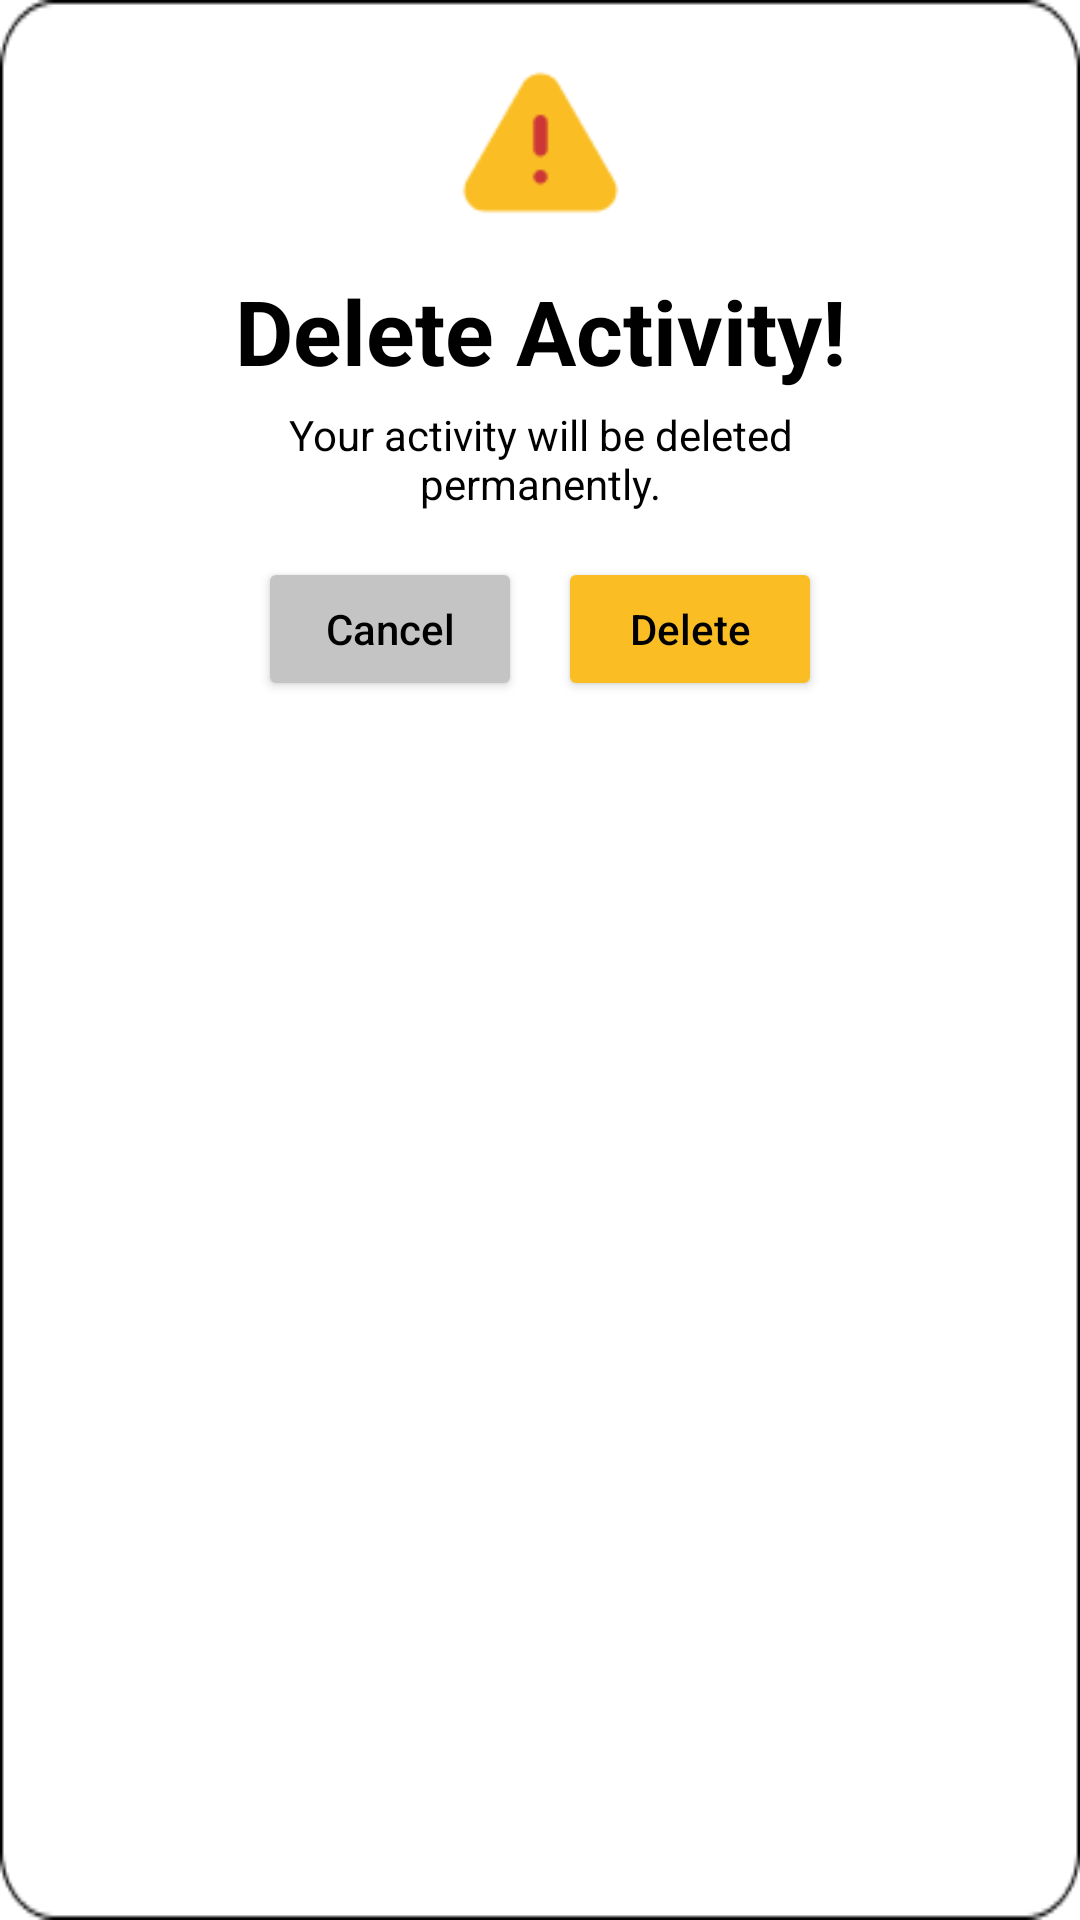

Icon bounding boxes for this 1080×1920 phone screenshot, format (left=x1, top=y1, right=x2, bottom=y2):
warning: (left=462, top=72, right=619, bottom=213)
